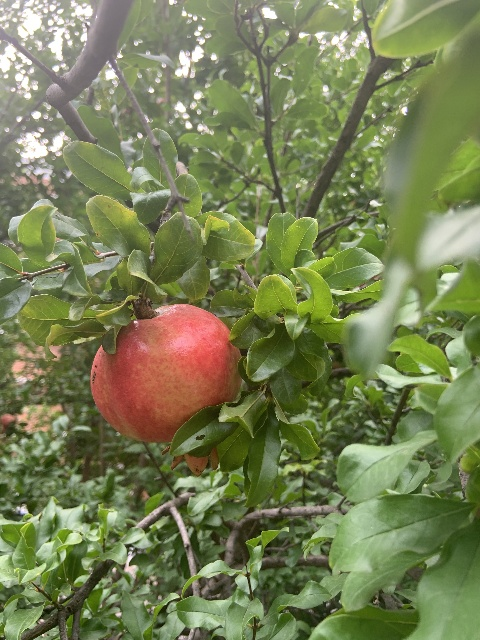ripe: (90, 304, 242, 476)
